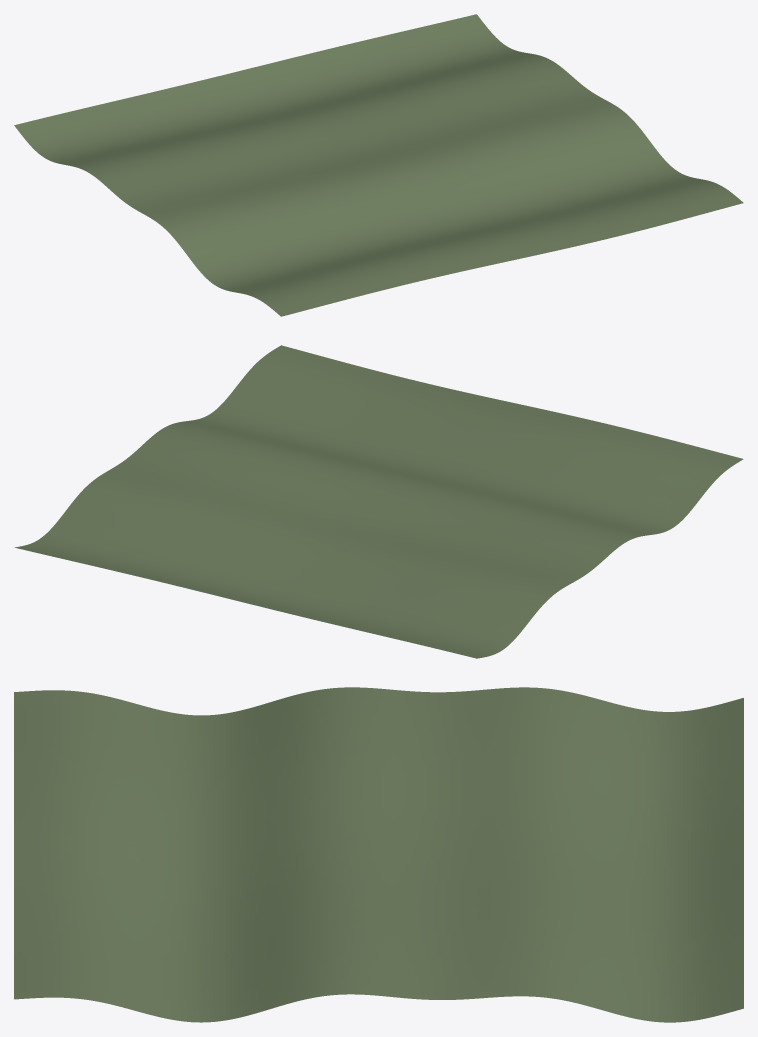
The model's file is red_bridge_ravine_east.obj.
The picture shows the model from 3 angles, top to bottom: view 1: azimuth 30°, elevation 25°; view 2: azimuth 150°, elevation 25°; view 3: azimuth 270°, elevation 25°; orthographic projection. The views are drawn at different scales.
Size of the model in its own units: 179 by 8.18 by 179.
